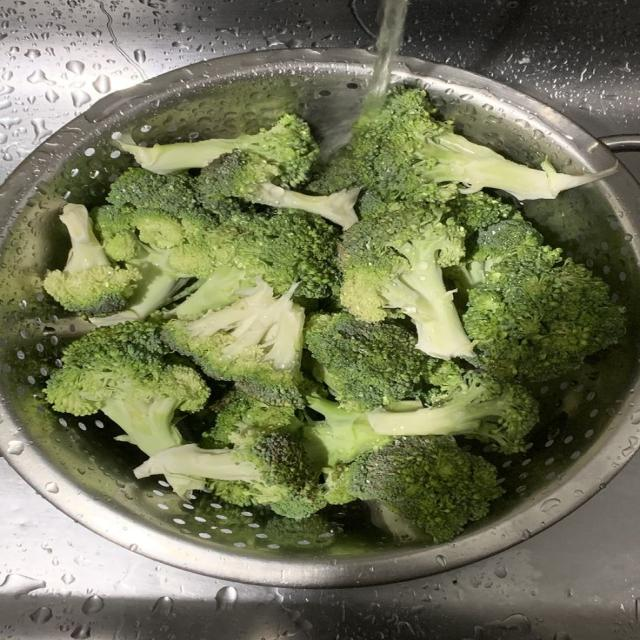broccoli: (311, 88, 615, 202), (305, 398, 502, 541), (464, 220, 624, 380), (306, 372, 538, 467), (45, 323, 209, 456), (340, 205, 473, 359), (92, 169, 217, 325), (162, 281, 304, 405), (134, 428, 326, 519), (345, 437, 503, 542), (305, 313, 458, 411), (171, 211, 339, 298), (117, 115, 318, 185), (367, 372, 538, 453), (197, 151, 359, 228), (446, 206, 561, 304), (99, 168, 217, 259), (43, 205, 140, 315), (234, 210, 339, 298), (90, 243, 186, 326), (305, 397, 389, 471), (200, 390, 301, 448), (200, 390, 300, 448), (165, 267, 246, 319), (449, 192, 519, 234), (260, 514, 342, 549)
